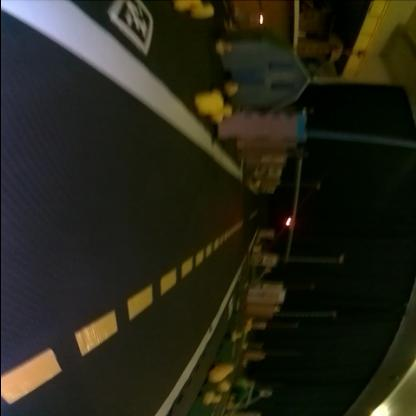Duckie: (193, 90, 223, 116), (214, 41, 232, 55)
QR code: (108, 2, 154, 56)
